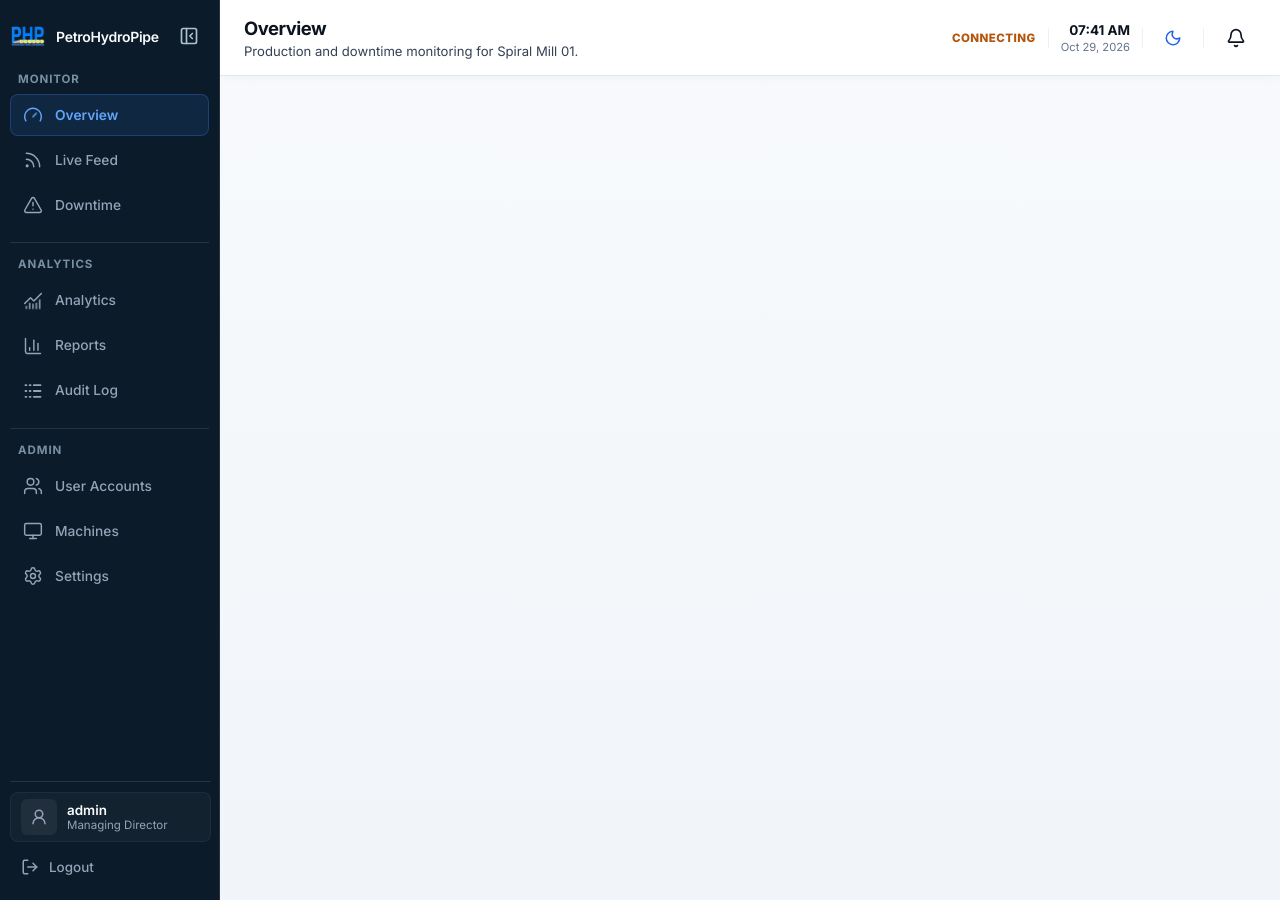
it: AdminDashboard alerts › toggles sidebar collapsed state when clicking the sidebar panel toggle
What coordinates should you click on to do the following:
click the button named "Collapse sidebar"
I would click on:
 (189, 36)
Its box is [167, 14, 211, 58].
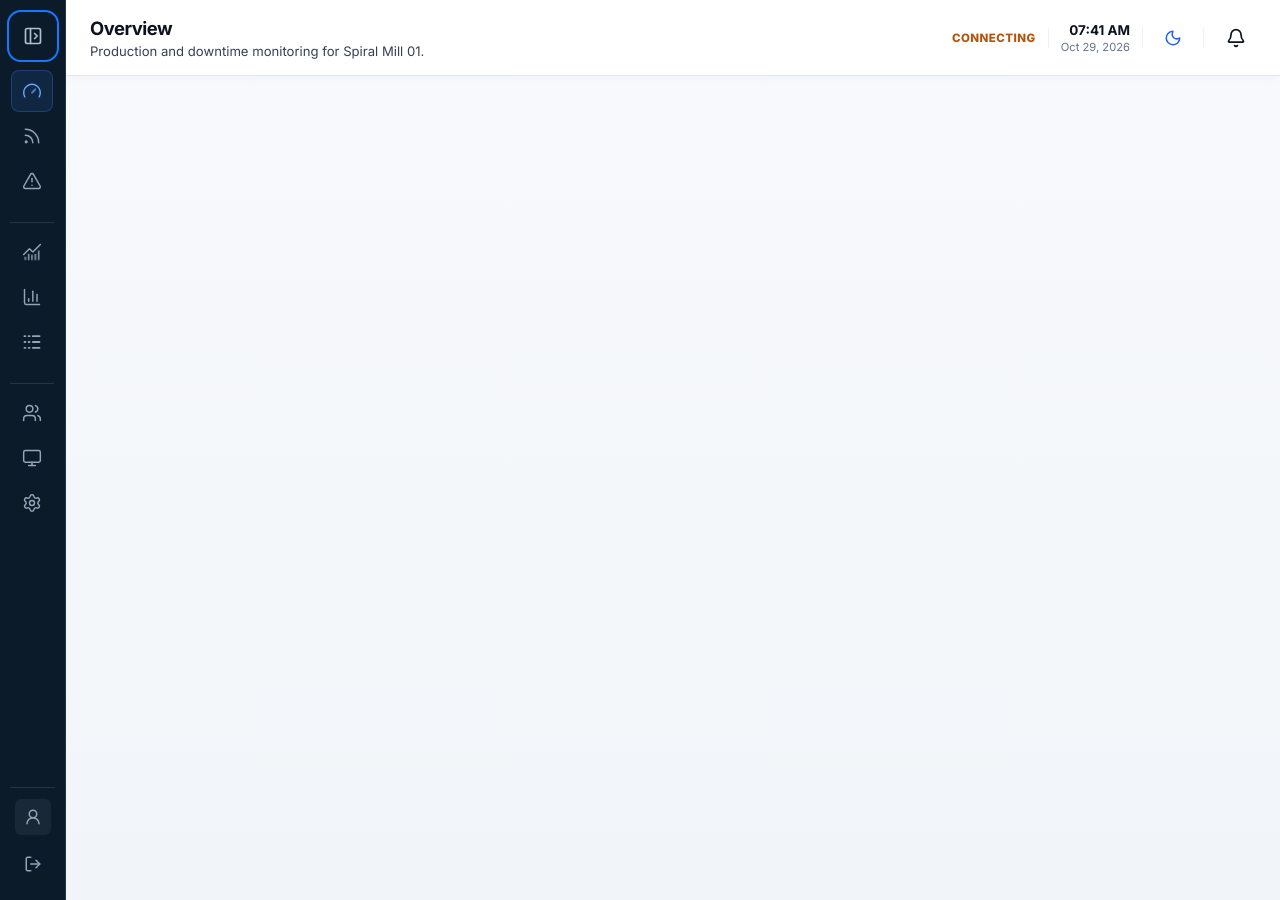
Now the button named "Expand sidebar" is shown
Now the button named "Expand sidebar" is collapsed
What coordinates should you click on to do the following:
click the button named "Expand sidebar"
I would click on:
 (32, 36)
Its box is [10, 14, 54, 58].
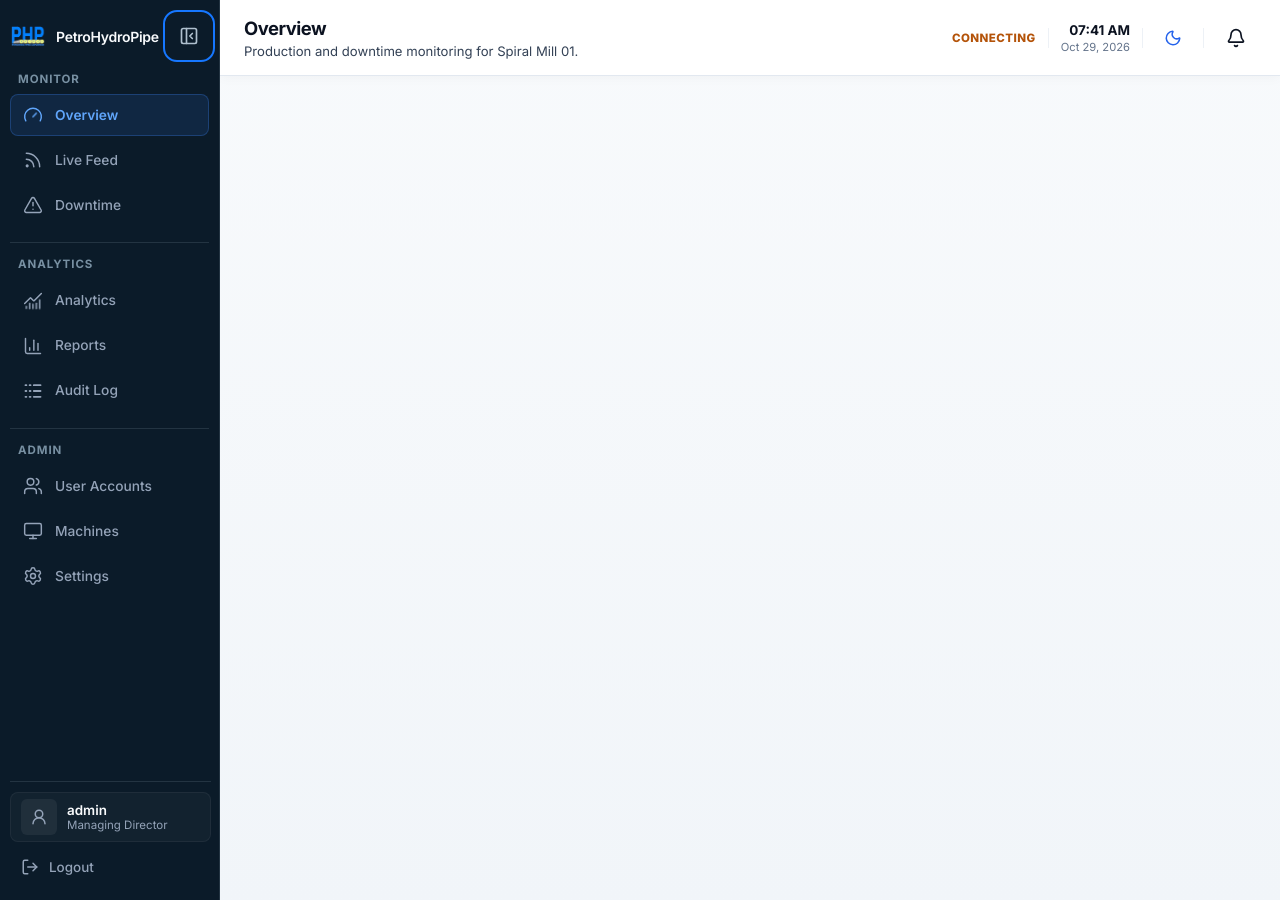
Now the button named "Collapse sidebar" is shown, box [167, 14, 211, 58]
